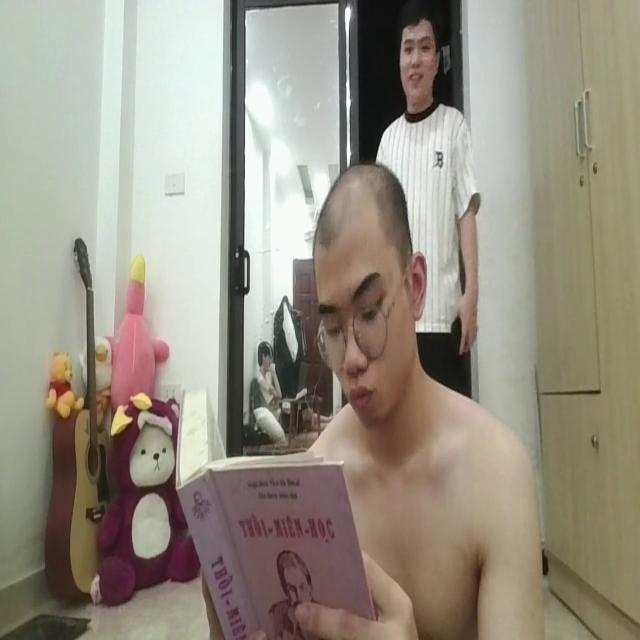book: (175, 386, 374, 640)
extra_person: (364, 9, 484, 391), (249, 325, 278, 415)
student: (301, 159, 546, 640)
